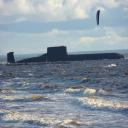submarine: (1, 46, 127, 61)
